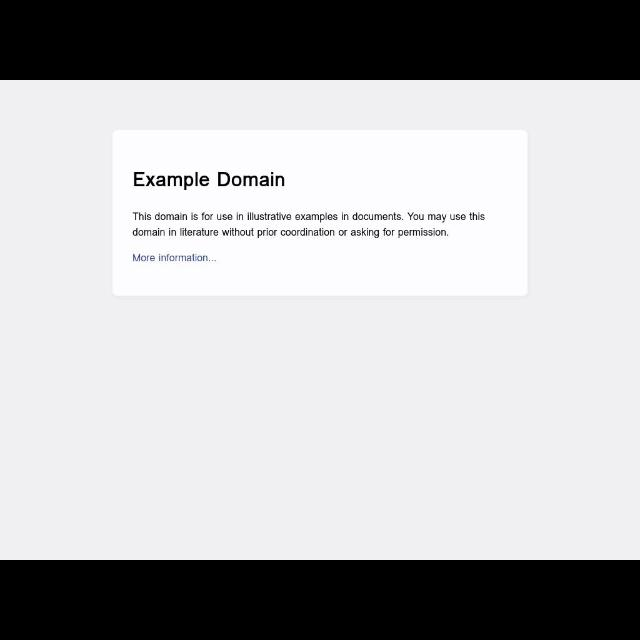text: (132, 212, 486, 238), (132, 170, 286, 190), (132, 253, 216, 263)
